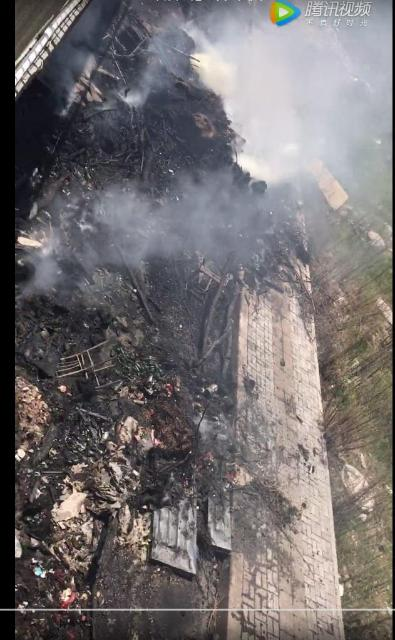smoke: (226, 30, 358, 176), (80, 175, 267, 272), (68, 40, 188, 114)
